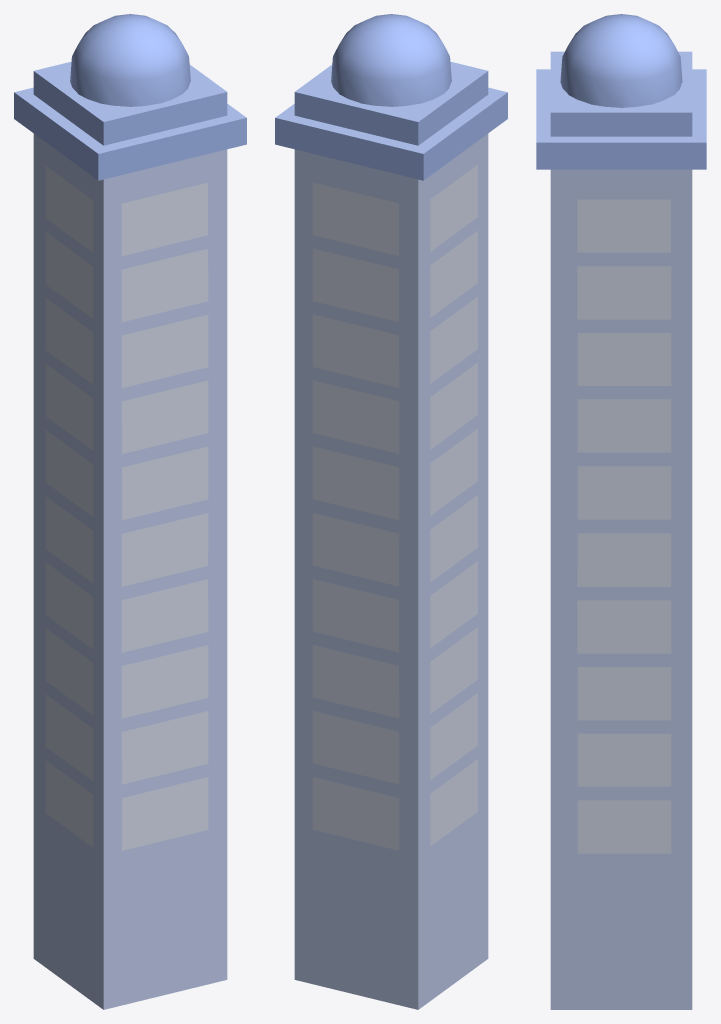
The model's file is house_2_small.fbx.
3 renders of one model, left to right at view 1: azimuth 30°, elevation 25°; view 2: azimuth 150°, elevation 25°; view 3: azimuth 270°, elevation 25°, orthographic.
Parts seen in each view (by area): view 1: house_2_small; view 2: house_2_small; view 3: house_2_small.
Boxes of the visible parts, left/top/right/bottom form: house_2_small: left=14, top=14, right=246, bottom=1009; house_2_small: left=275, top=14, right=507, bottom=1009; house_2_small: left=536, top=14, right=706, bottom=1009.
Bounding box in the file's own units: 27.65 × 169 × 27.2.
